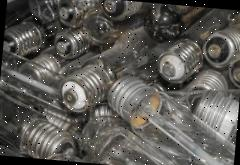lightbulb: (0, 0, 240, 165), (105, 72, 164, 130), (57, 61, 112, 114), (154, 34, 204, 86), (200, 16, 240, 69)
